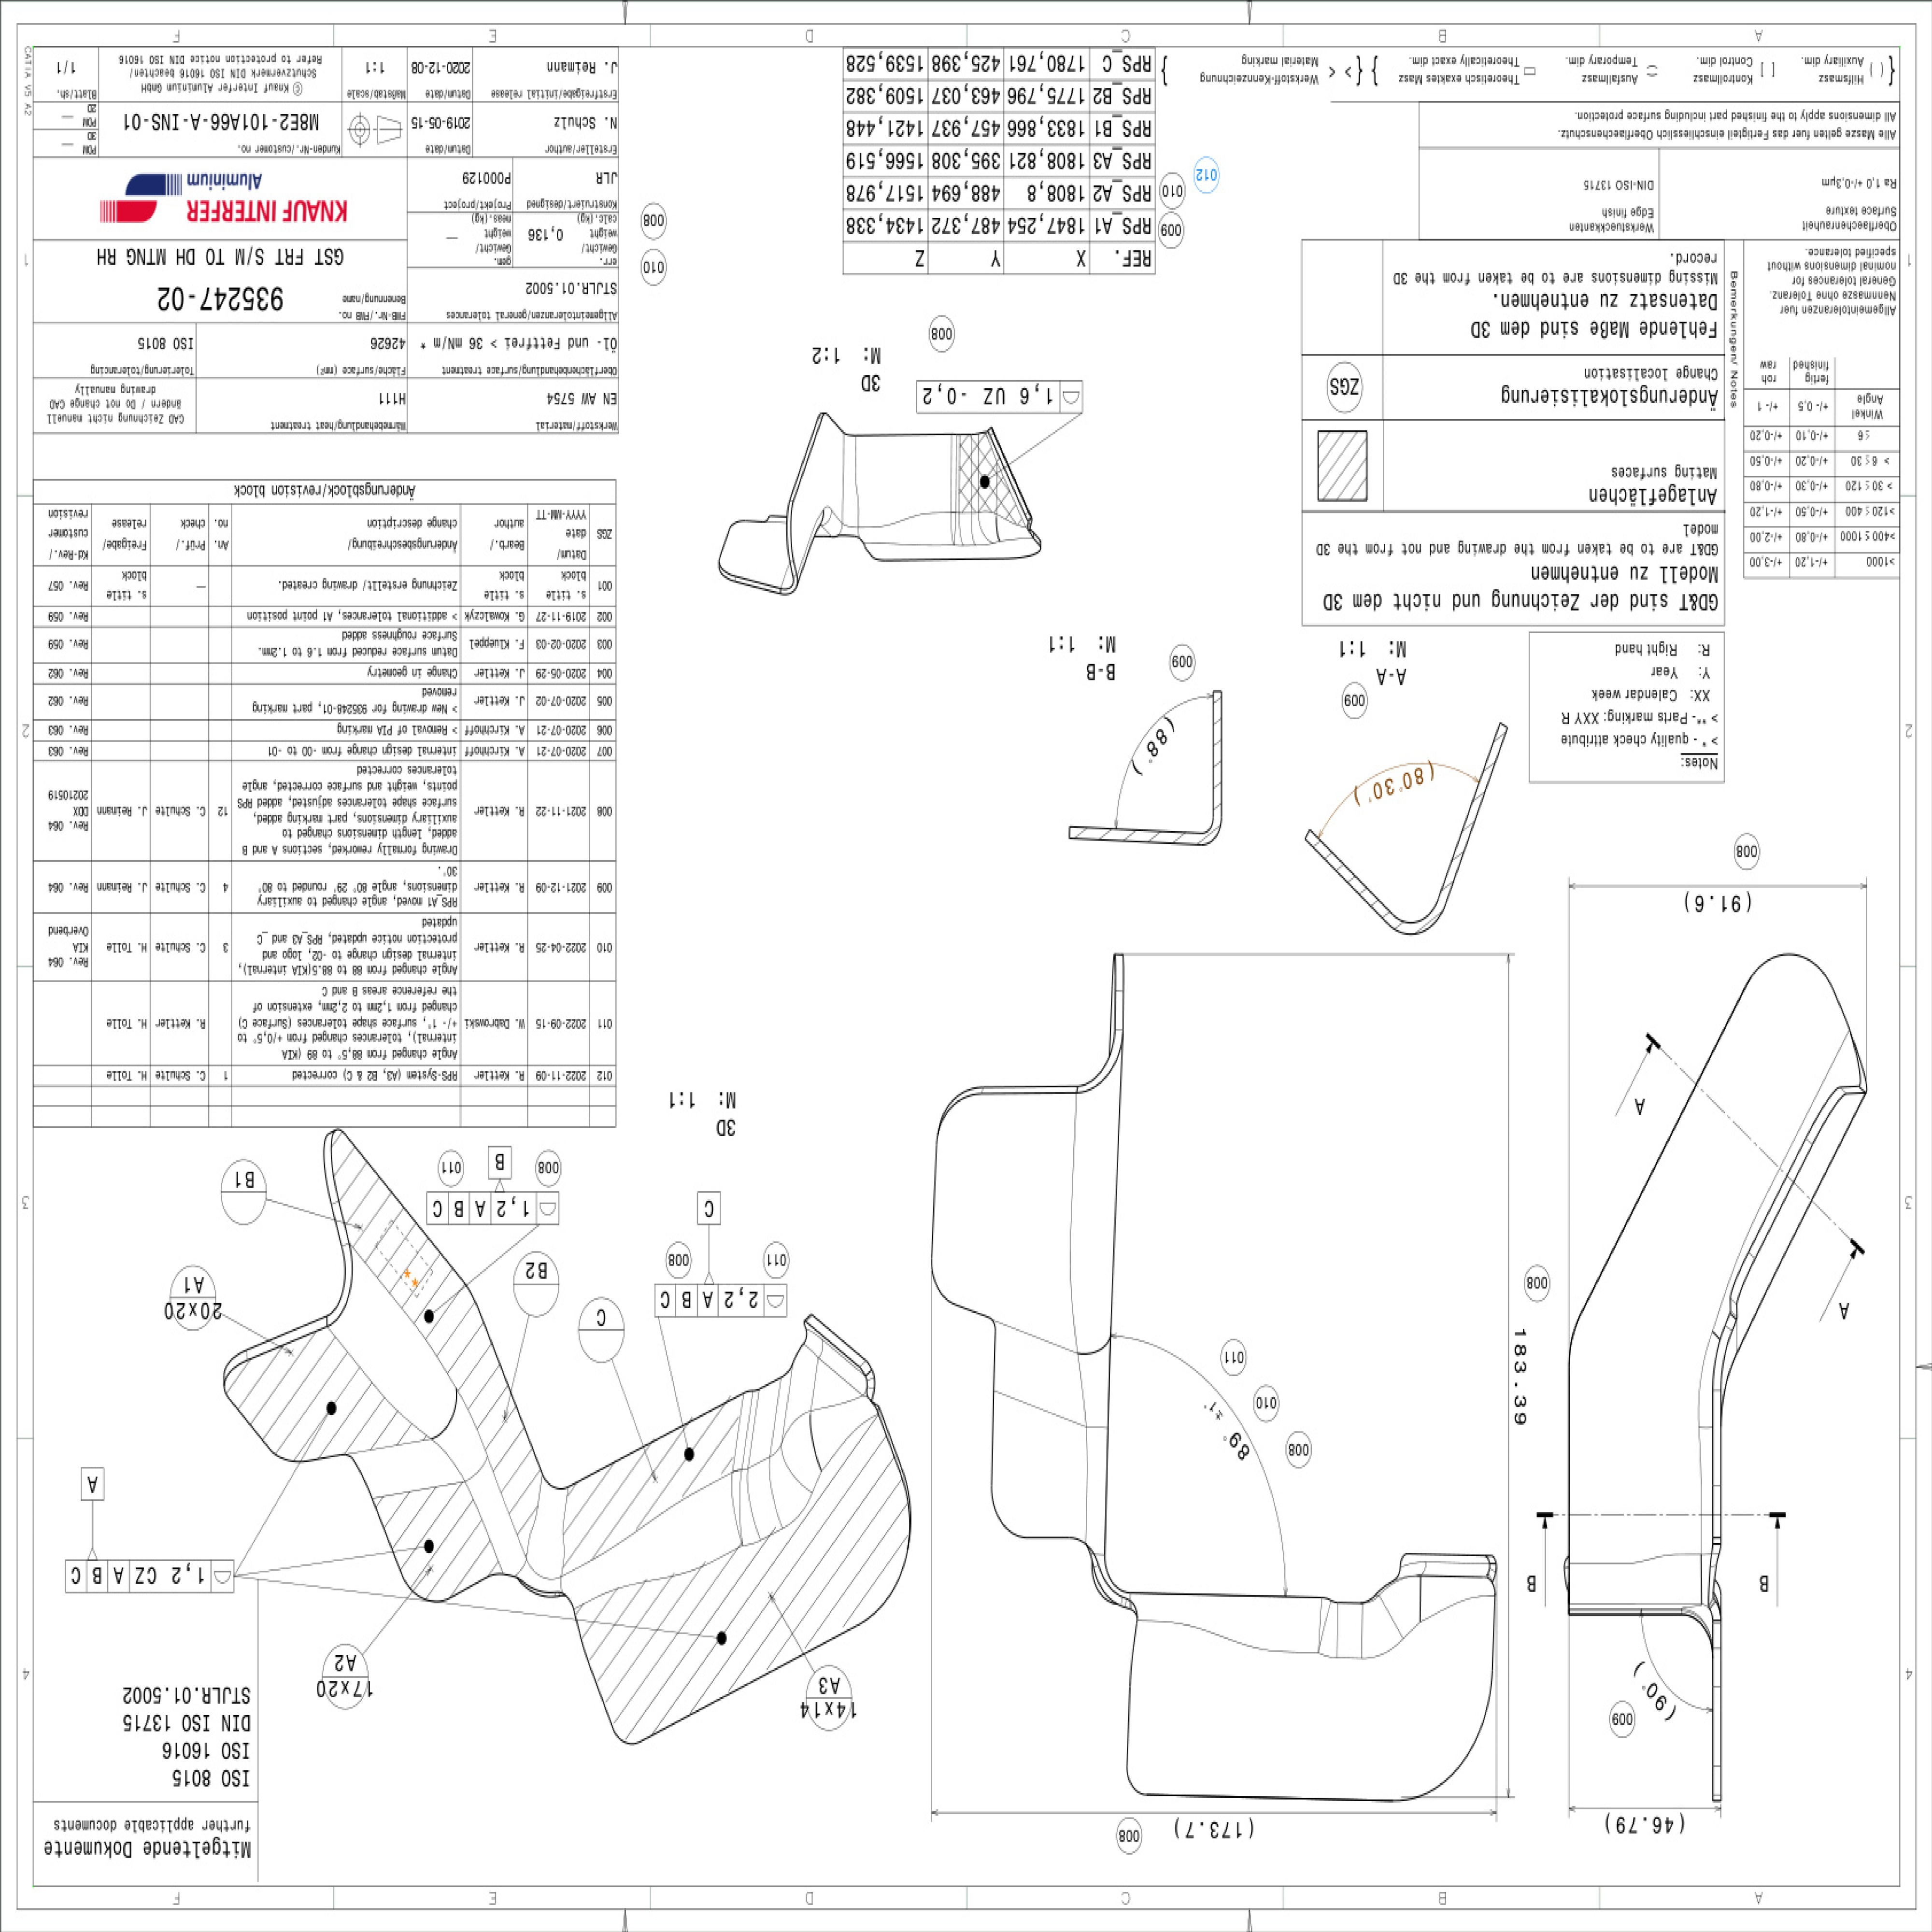BendingEdge: (310, 1263, 483, 1447), (554, 1484, 745, 1622), (1074, 1070, 1116, 1352), (1136, 1594, 1318, 1654), (515, 1467, 589, 1599), (464, 1461, 536, 1585), (356, 1428, 460, 1506), (796, 1313, 890, 1398), (803, 1385, 883, 1456), (428, 1403, 497, 1481), (773, 1422, 832, 1493), (1079, 1546, 1132, 1619), (1085, 1417, 1113, 1550), (1378, 1573, 1431, 1640), (740, 1461, 782, 1543), (1421, 1568, 1497, 1612), (763, 1456, 812, 1523), (782, 1350, 823, 1430), (1350, 1596, 1401, 1656), (1399, 1546, 1495, 1573), (1315, 1596, 1345, 1660), (1079, 1353, 1108, 1419), (1336, 1599, 1364, 1658), (715, 1472, 740, 1525), (731, 1476, 741, 1527)
